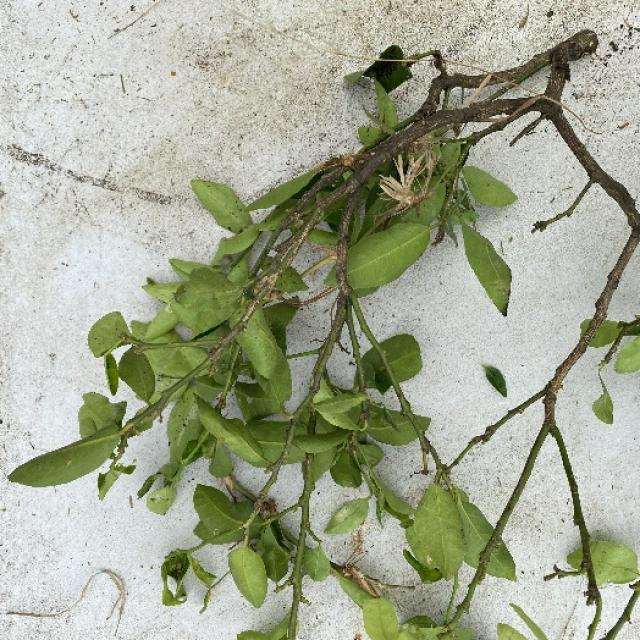organik: (83, 46, 640, 640)
